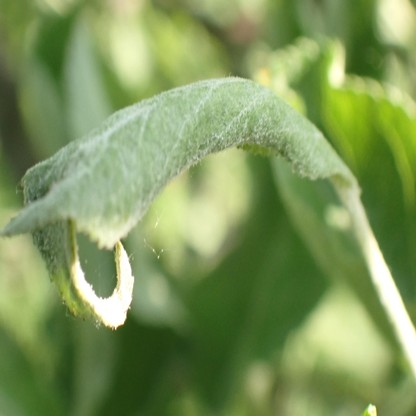powder: (1, 76, 358, 329)
